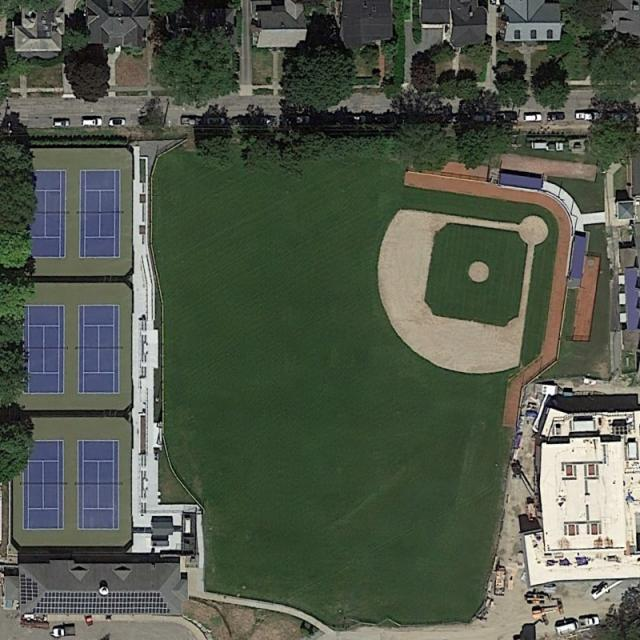vehicle: (50, 623, 77, 638), (556, 622, 578, 634), (576, 112, 599, 121), (496, 113, 518, 121), (580, 617, 599, 626), (83, 118, 102, 126), (259, 118, 278, 126), (182, 117, 201, 125), (346, 115, 365, 122), (290, 116, 310, 122), (207, 118, 224, 125), (547, 113, 564, 120), (53, 120, 70, 126), (109, 119, 125, 125), (526, 114, 541, 120)
